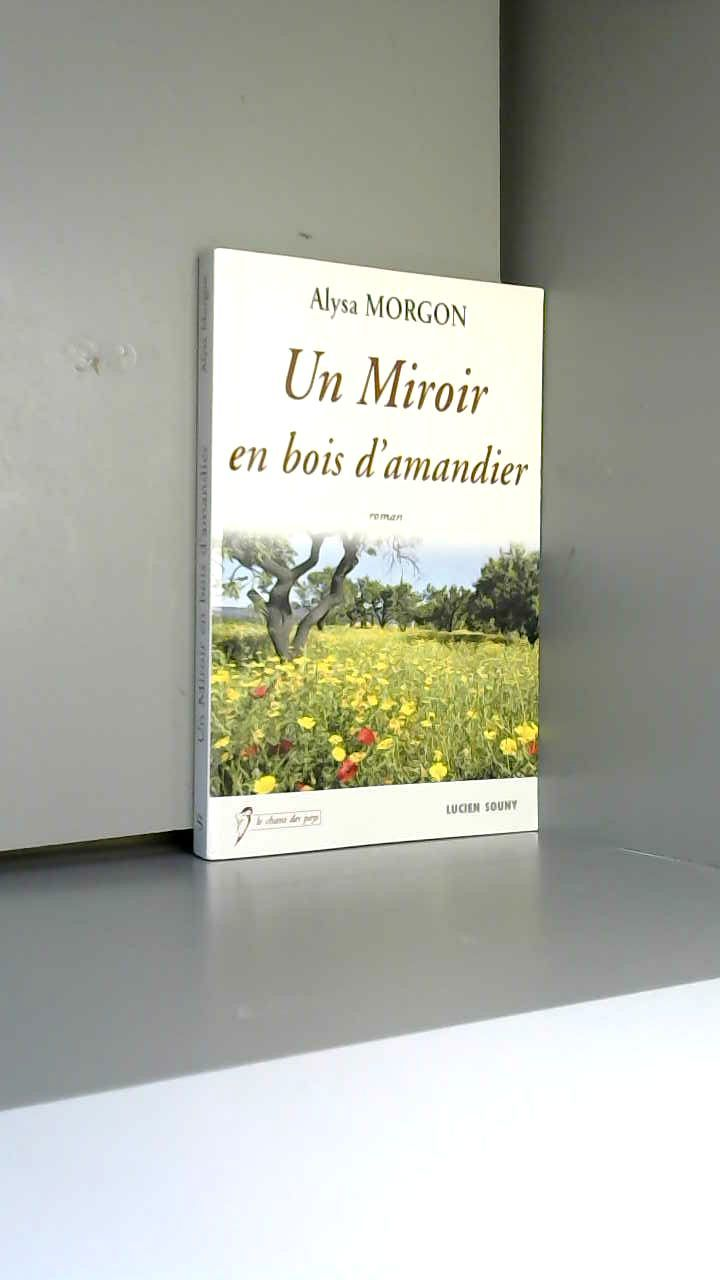book: (158, 210, 586, 915)
